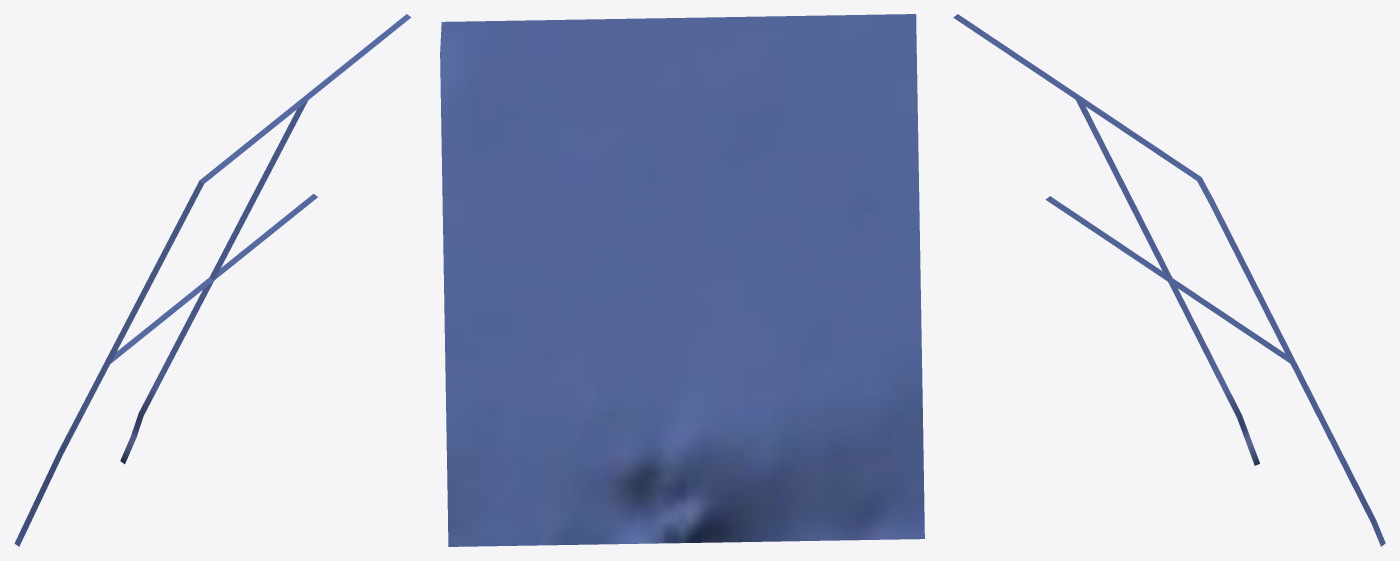
3 renders of one model, left to right at view 1: azimuth 30°, elevation 25°; view 2: azimuth 150°, elevation 25°; view 3: azimuth 270°, elevation 25°, orthographic. The views are drawn at different scales.
Bounding box in the file's own units: 19542 × 17925 × 16779.
Materials: 1 (1 with a texture image).
